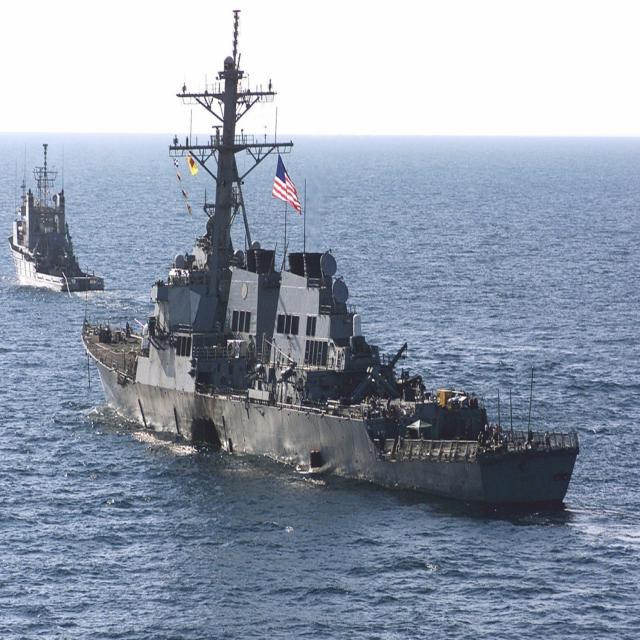navalvessels: (74, 0, 590, 507), (0, 137, 94, 296)
